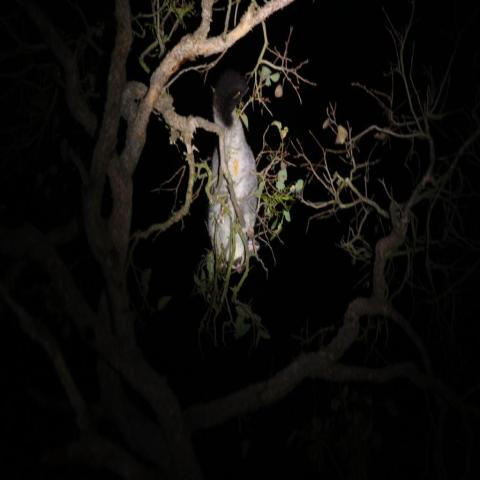small_animal: (205, 67, 261, 275)
